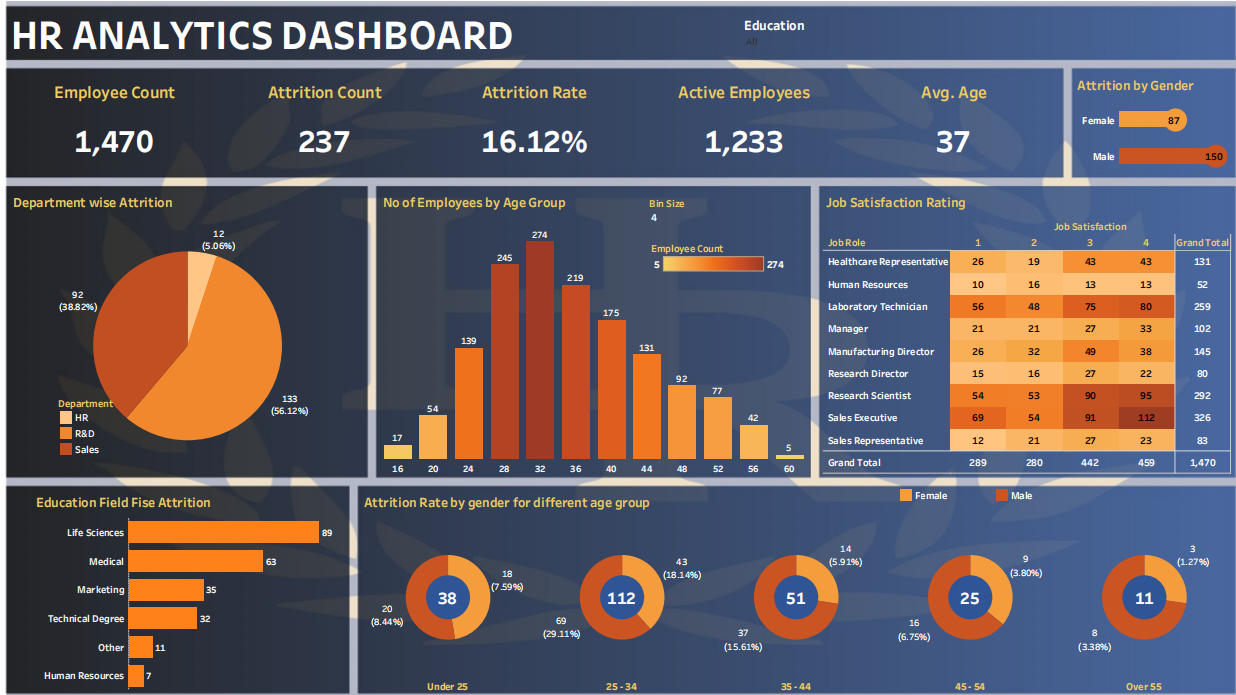

This screenshot's page, from the dashboard's own definition file:
{"tool":"tableau","page":{"name":"HR ANALYTICS DASHBOARD","canvas":[1600,900],"ordinal":0},"visuals":[{"type":"image","param":"Image/HR background Final.png","box":[8,8,1584,884]},{"type":"text","box":[31,20,836,64]},{"type":"filter","title":"Department wise Attrition","param":"[federated.14vihs20pcf1i117rbl7q0sfnqr3].[none:Education:nk]","box":[955,29,193,56]},{"type":"worksheet","title":"KPI","mark":"Automatic","box":[32,100,1319,131]},{"type":"worksheet","title":"Attrition by Gender","mark":"Automatic","rows":["Gender"],"cols":["Calculation_578431087107461120","Calculation_578431087107461120"],"box":[1370,100,198,129]},{"type":"worksheet","title":"Department wise Attrition","mark":"Pie","box":[32,247,446,358]},{"type":"worksheet","title":"No of Employees by Age Group","mark":"Automatic","rows":["Employee Count"],"cols":["Age (bin)"],"box":[497,247,537,360]},{"type":"worksheet","title":"Job Satisfaction Rating","mark":"Square","rows":["Job Role"],"cols":["Job Satisfaction"],"box":[1054,247,513,359]},{"type":"parameter","param":"[Parameters].[Parameter 1]","box":[835.6,255.1,177.5,54.4]},{"type":"legend","title":"No of Employees by Age Group","param":"[federated.14vihs20pcf1i117rbl7q0sfnqr3].[sum:Employee Count:qk]","box":[838,309.5,171.5,51.8]},{"type":"legend","title":"Department wise Attrition","param":"[federated.14vihs20pcf1i117rbl7q0sfnqr3].[none:Department:nk]","box":[91.8,506.3,86.9,101]},{"type":"legend","title":"Attrition Rate by gender for different age group","param":"[federated.14vihs20pcf1i117rbl7q0sfnqr3].[none:Gender:nk]","box":[1148.4,622.9,361.1,35]},{"type":"worksheet","title":"Education Field Fise Attrition","mark":"Automatic","rows":["Education Field"],"cols":["Calculation_578431087107461120"],"box":[61,623,394,254]},{"type":"worksheet","title":"Attrition Rate by gender for different age group","mark":"Pie","rows":["Calculation_578431087144607749","Calculation_578431087144607749"],"cols":["CF_age band"],"box":[473,624,1094,255]}]}

Visuals, with their boxes in screenshot pixels (x1, y1, x2, y2), scaled from the page's 1600x900 canvas onto the 1236x695 screenshot:
image: x1=6 y1=6 x2=1230 y2=689
text: x1=24 y1=15 x2=670 y2=65
"Department wise Attrition" filter: x1=738 y1=22 x2=887 y2=66
"KPI" worksheet: x1=25 y1=77 x2=1044 y2=178
"Attrition by Gender" worksheet: x1=1058 y1=77 x2=1211 y2=177
"Department wise Attrition" worksheet (Pie marks): x1=25 y1=191 x2=369 y2=467
"No of Employees by Age Group" worksheet: x1=384 y1=191 x2=799 y2=469
"Job Satisfaction Rating" worksheet (Square marks): x1=814 y1=191 x2=1211 y2=468
parameter: x1=646 y1=197 x2=783 y2=239
"No of Employees by Age Group" legend: x1=647 y1=239 x2=780 y2=279
"Department wise Attrition" legend: x1=71 y1=391 x2=138 y2=469
"Attrition Rate by gender for different age group" legend: x1=887 y1=481 x2=1166 y2=508
"Education Field Fise Attrition" worksheet: x1=47 y1=481 x2=351 y2=677
"Attrition Rate by gender for different age group" worksheet (Pie marks): x1=365 y1=482 x2=1211 y2=679
